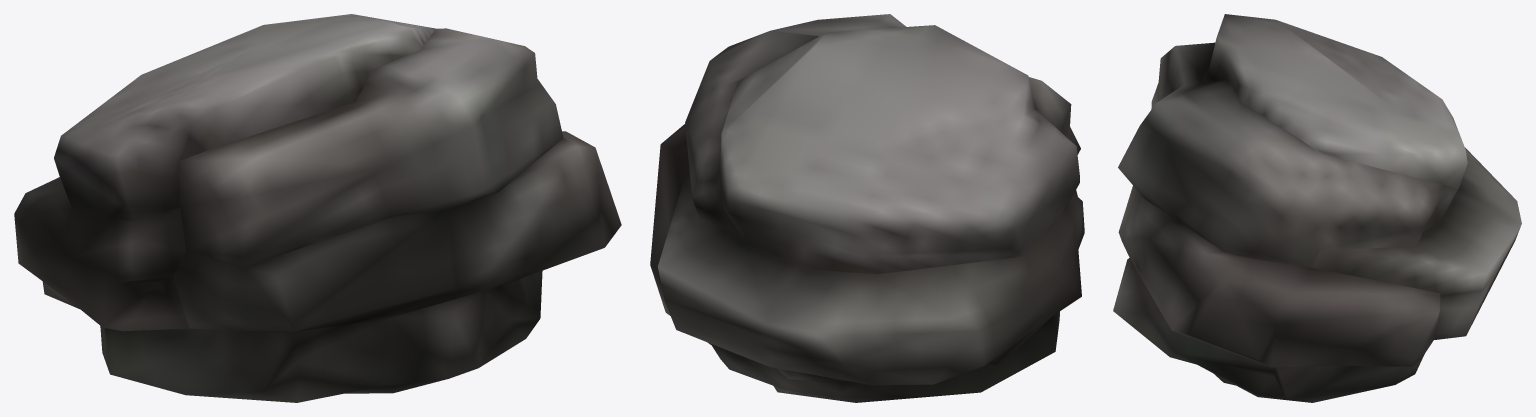
The model's file is rock-mid-2.lod1.glb.
The picture shows the model from 3 angles, left to right: view 1: azimuth 30°, elevation 25°; view 2: azimuth 150°, elevation 25°; view 3: azimuth 270°, elevation 25°; orthographic projection. The views are drawn at different scales.
Parts seen in each view (by area): view 1: Mid_3_MID_0; view 2: Mid_3_MID_0; view 3: Mid_3_MID_0.
Boxes of the visible parts, box(x1,y1,x2,y2) form: Mid_3_MID_0: box(14, 14, 621, 402); Mid_3_MID_0: box(650, 14, 1084, 402); Mid_3_MID_0: box(1113, 14, 1521, 402).
Bounding box in the file's own units: 3 × 2.21 × 2.6.
Materials: 1 (1 with a texture image).
